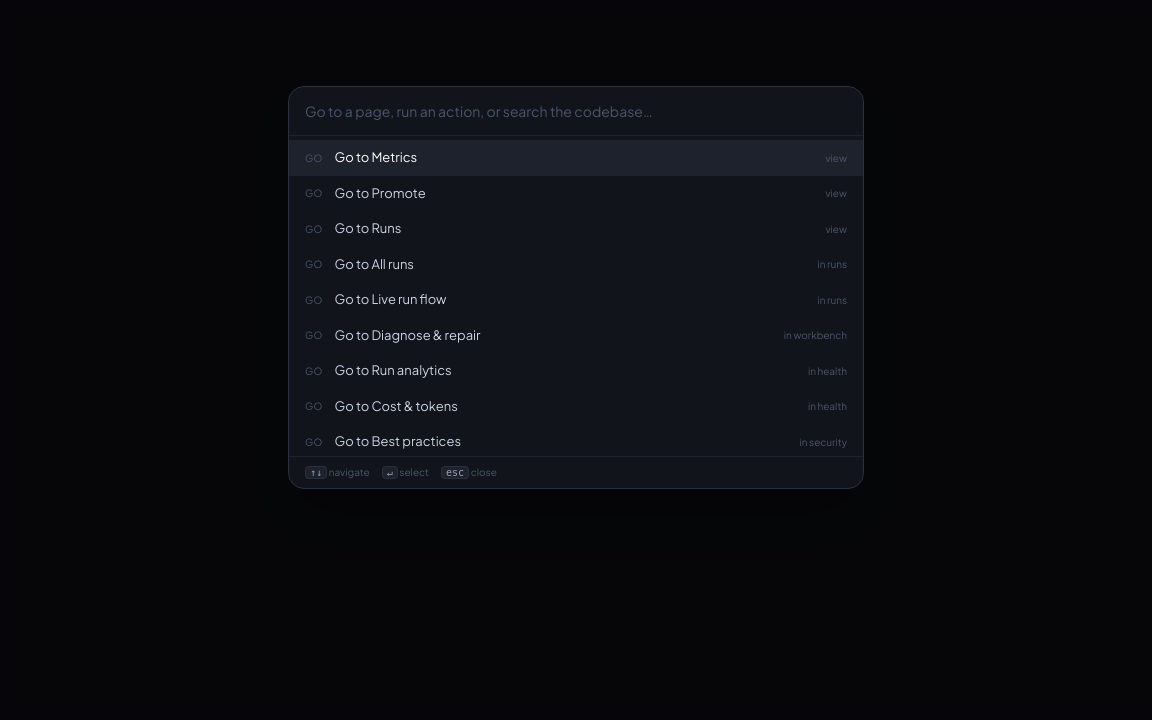
Test: CommandPalette finds pages by the name people actually type › finds a merged page by the name it had before the merge
Step 1. Type "telemetry" into the field with placeholder "Go to a page, run an action, or search the codebase…" → (576, 112), box [289,87,863,136]
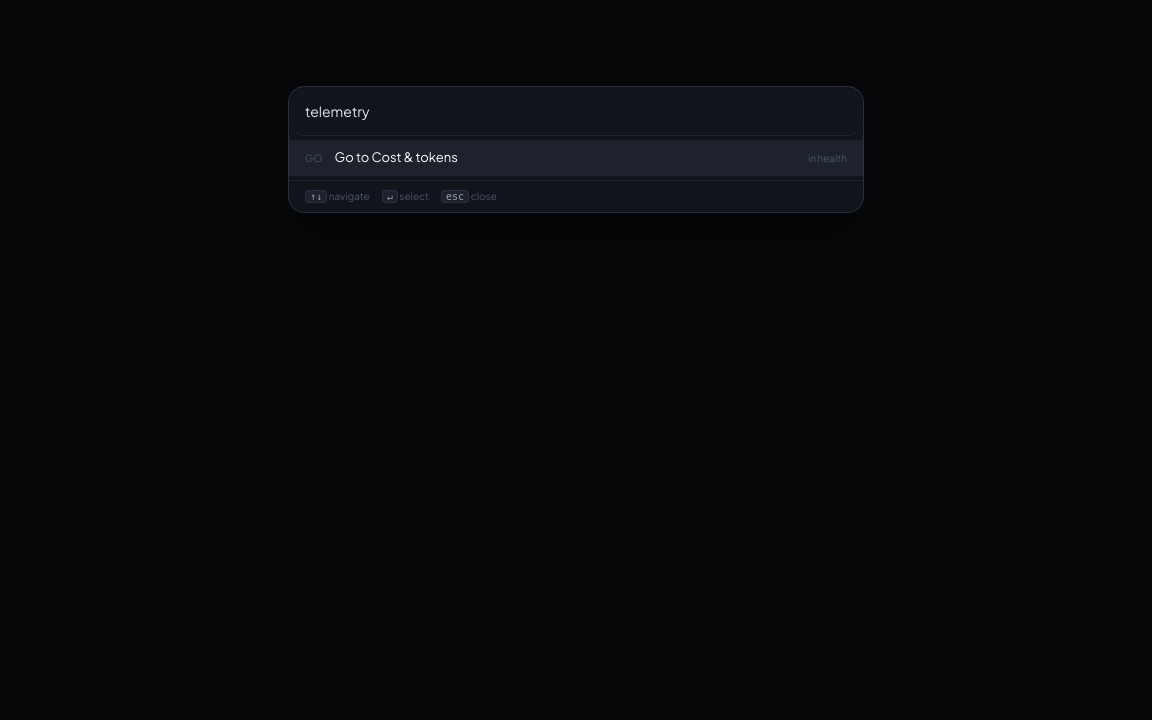
Expected: the button shows "Cost & tokens", [289,140,863,176]
